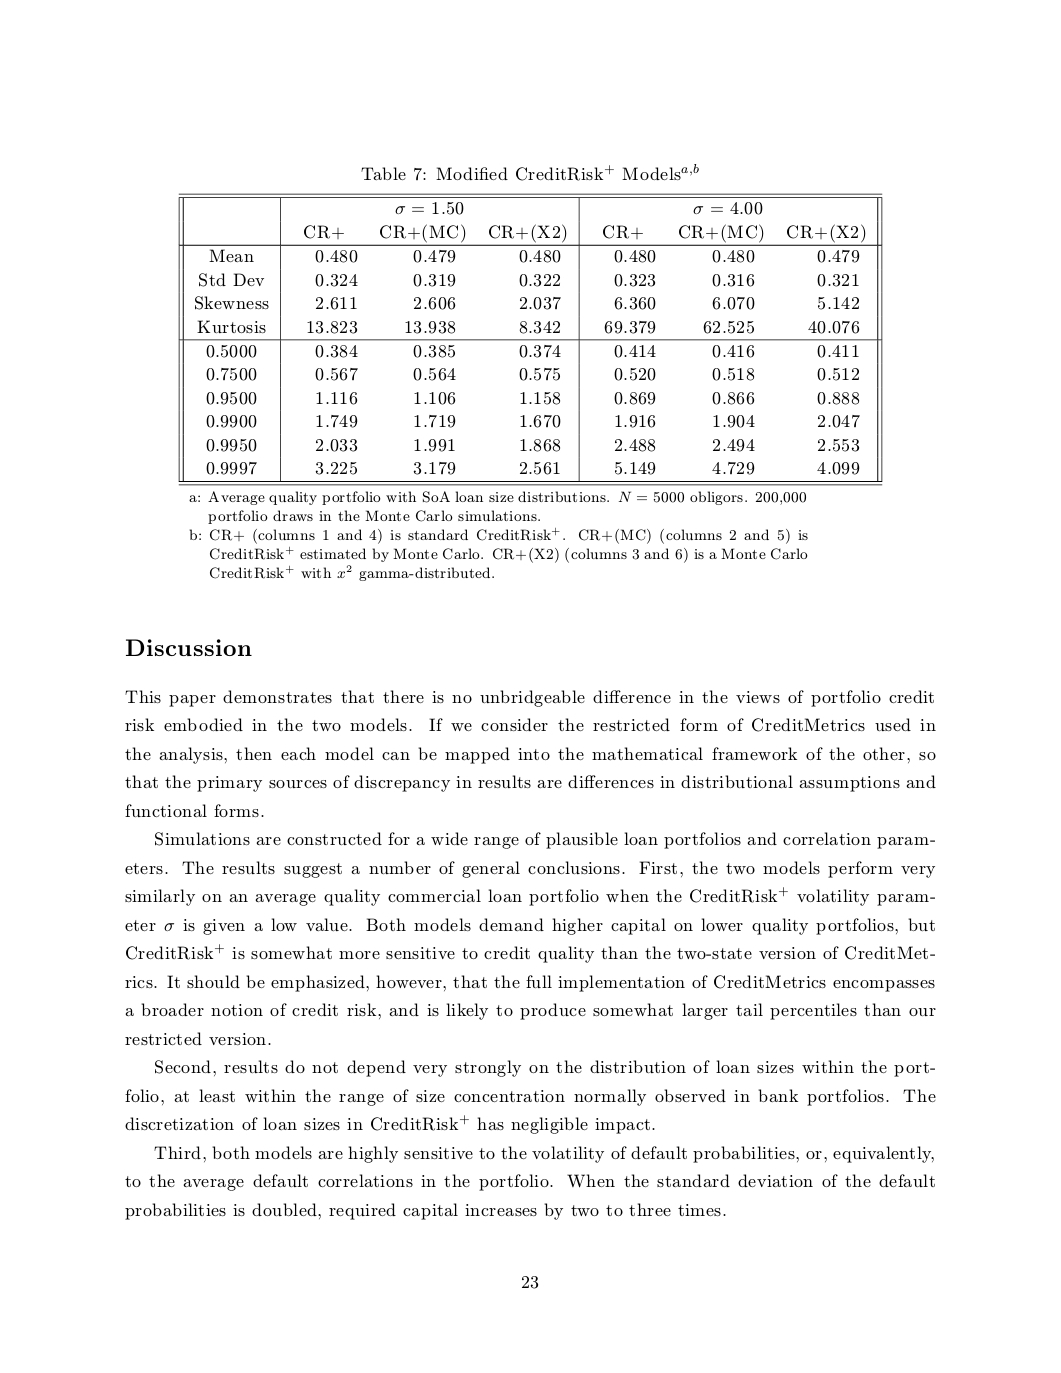Table: (178, 192, 882, 486)
